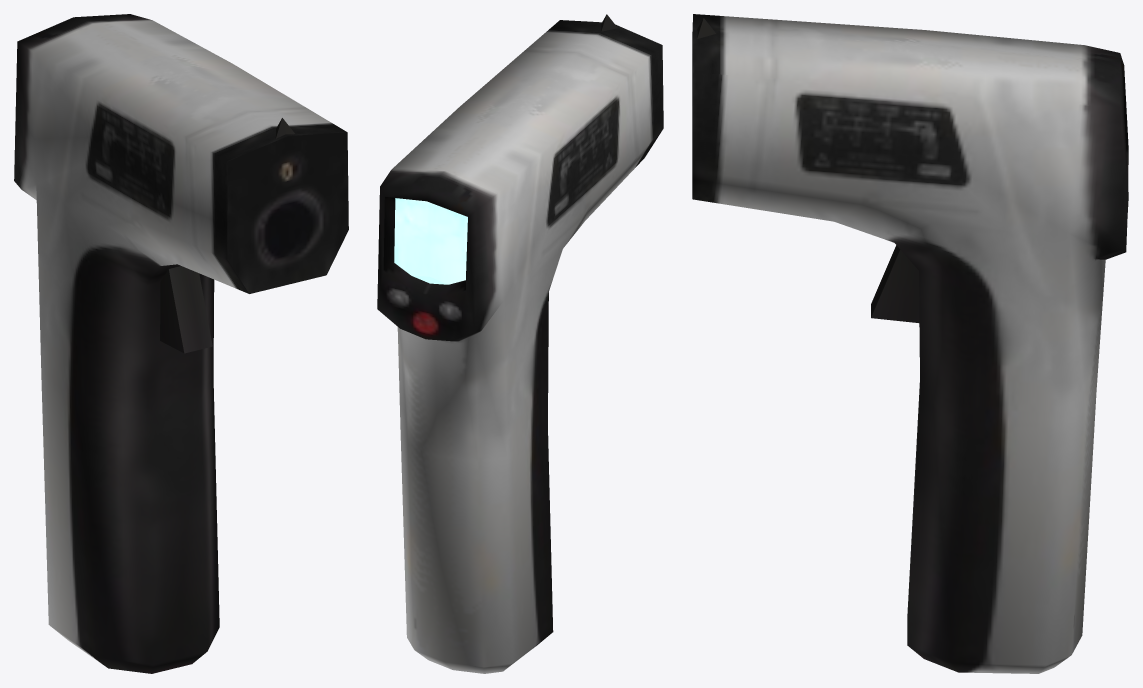
File: termometr.glb
3 renders of one model, left to right at view 1: azimuth 30°, elevation 25°; view 2: azimuth 150°, elevation 25°; view 3: azimuth 270°, elevation 25°, orthographic. The views are drawn at different scales.
Visible parts, largest first — view 1: Thermometer; view 2: Thermometer; view 3: Thermometer.
Part boxes in pixels (bbox=[...]): Thermometer: bbox=[14, 14, 348, 673]; Thermometer: bbox=[377, 14, 663, 673]; Thermometer: bbox=[692, 14, 1128, 673].
Size of the model in its own units: 0.0322 by 0.1553 by 0.0969.
Materials: 1 (1 with a texture image).
